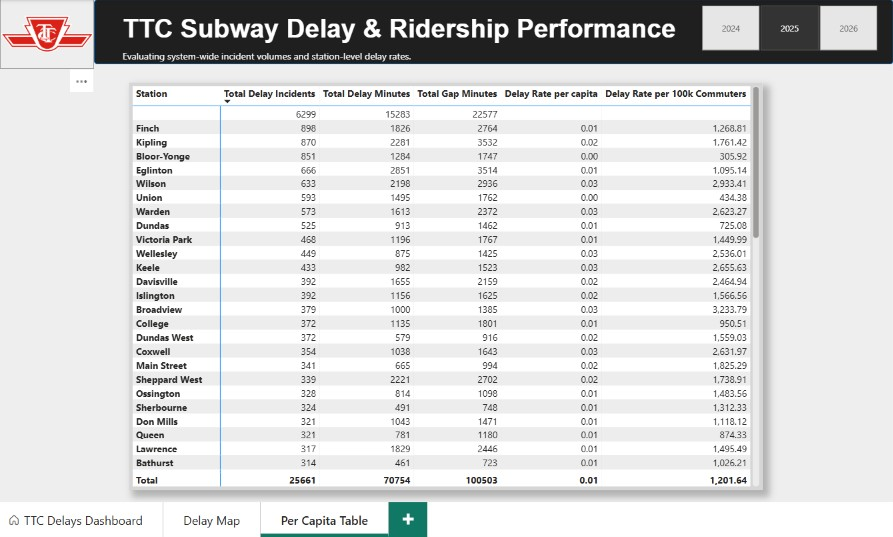

The dashboard page shown, as its layout file describes it:
{"tool":"powerbi","page":{"name":"Per Capita Table","canvas":[1280,720],"ordinal":2},"visuals":[{"type":"shape","box":[135,0,1145.1,92.7],"z":0},{"type":"textbox","box":[170.8,13.9,808.1,65.5],"z":1000},{"type":"textbox","box":[170.8,65.5,734.7,27.8],"z":2000},{"type":"slicer","fields":{"Values":["Dim_Calendar.Year"]},"box":[979.2,1.6,300.9,78.1],"z":3000},{"type":"pivotTable","fields":{"Rows":["Dim_Stations.Station"],"Values":["_Measure Table.Total Delay Incidents","_Measure Table.Total Delay Minutes","_Measure Table.Total Gap Minutes","_Measure Table.Delay Rate per capita","_Measure Table.Delay Rate per 100k Commuters"]},"box":[185.4,118.7,907.6,583.9],"z":4000},{"type":"image","box":[0,0,135,99.3],"z":5000},{"type":"image","box":[596.9,45.5,48.8,61.8],"z":7000},{"type":"actionButton","box":[657.1,58.6,50.4,34.2],"z":8000},{"type":"actionButton","box":[694.5,50.4,94.3,45],"z":8001}]}

Visuals, with their boxes on the page's 1280x720 design canvas (x1, y1, x2, y2). These are canvas units, not pixel positions in the 893x537 screenshot, which may show the page scaled, cropped or inside an application window:
shape: bbox=[135, 0, 1280, 93]
textbox: bbox=[171, 14, 979, 79]
textbox: bbox=[171, 66, 906, 93]
slicer - Dim_Calendar.Year: bbox=[979, 2, 1280, 80]
pivotTable - Dim_Stations.Station x _Measure Table.Total Delay Incidents: bbox=[185, 119, 1093, 703]
image: bbox=[0, 0, 135, 99]
image: bbox=[597, 46, 646, 107]
actionButton: bbox=[657, 59, 708, 93]
actionButton: bbox=[694, 50, 789, 95]
